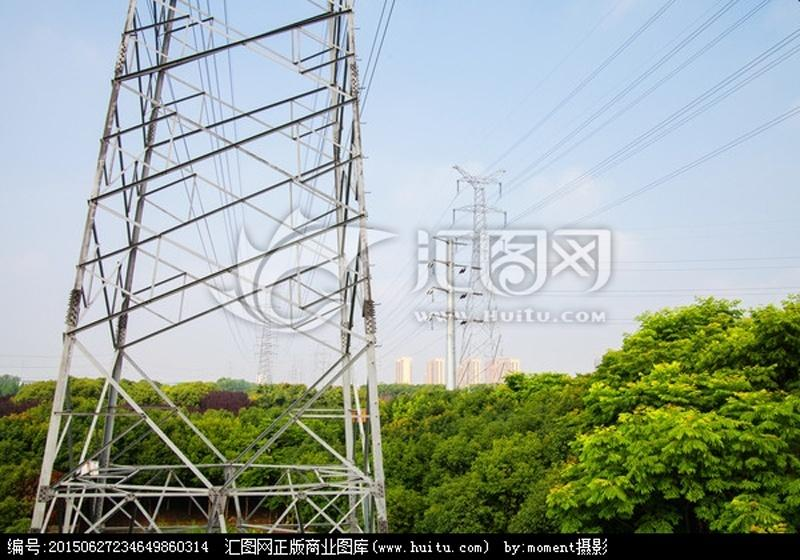power_tower: (31, 2, 393, 536)
